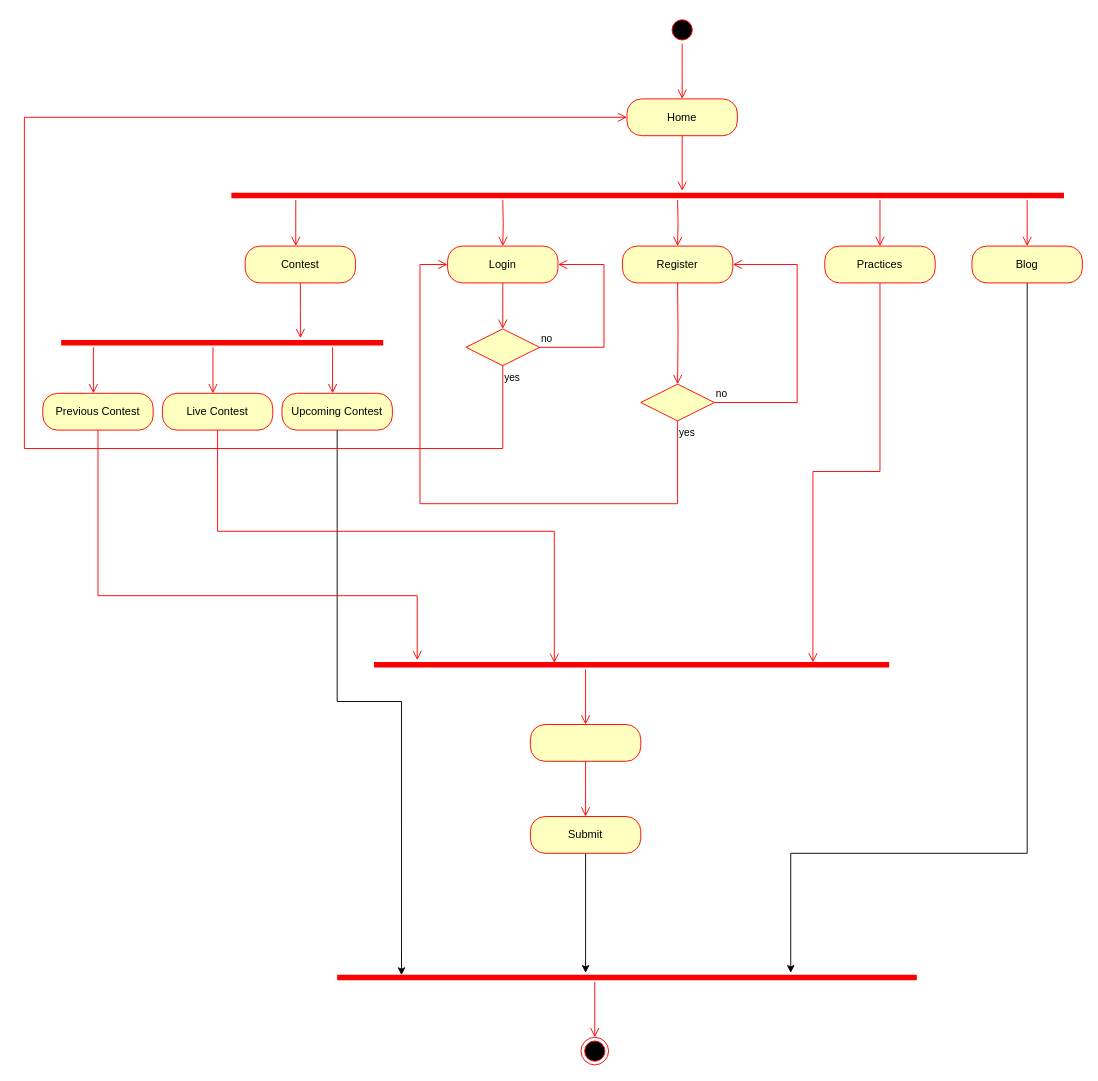
Some shapes in this 1098 by 1081 pixel diagram are drawn without their labels. Each missing label, with the box of its shape:
account: (640, 383, 714, 421)
isuser: (465, 328, 540, 366)
Question: (529, 724, 641, 761)
